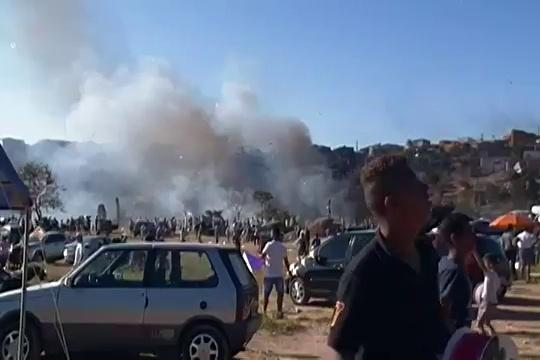smoke: (103, 105, 292, 189)
